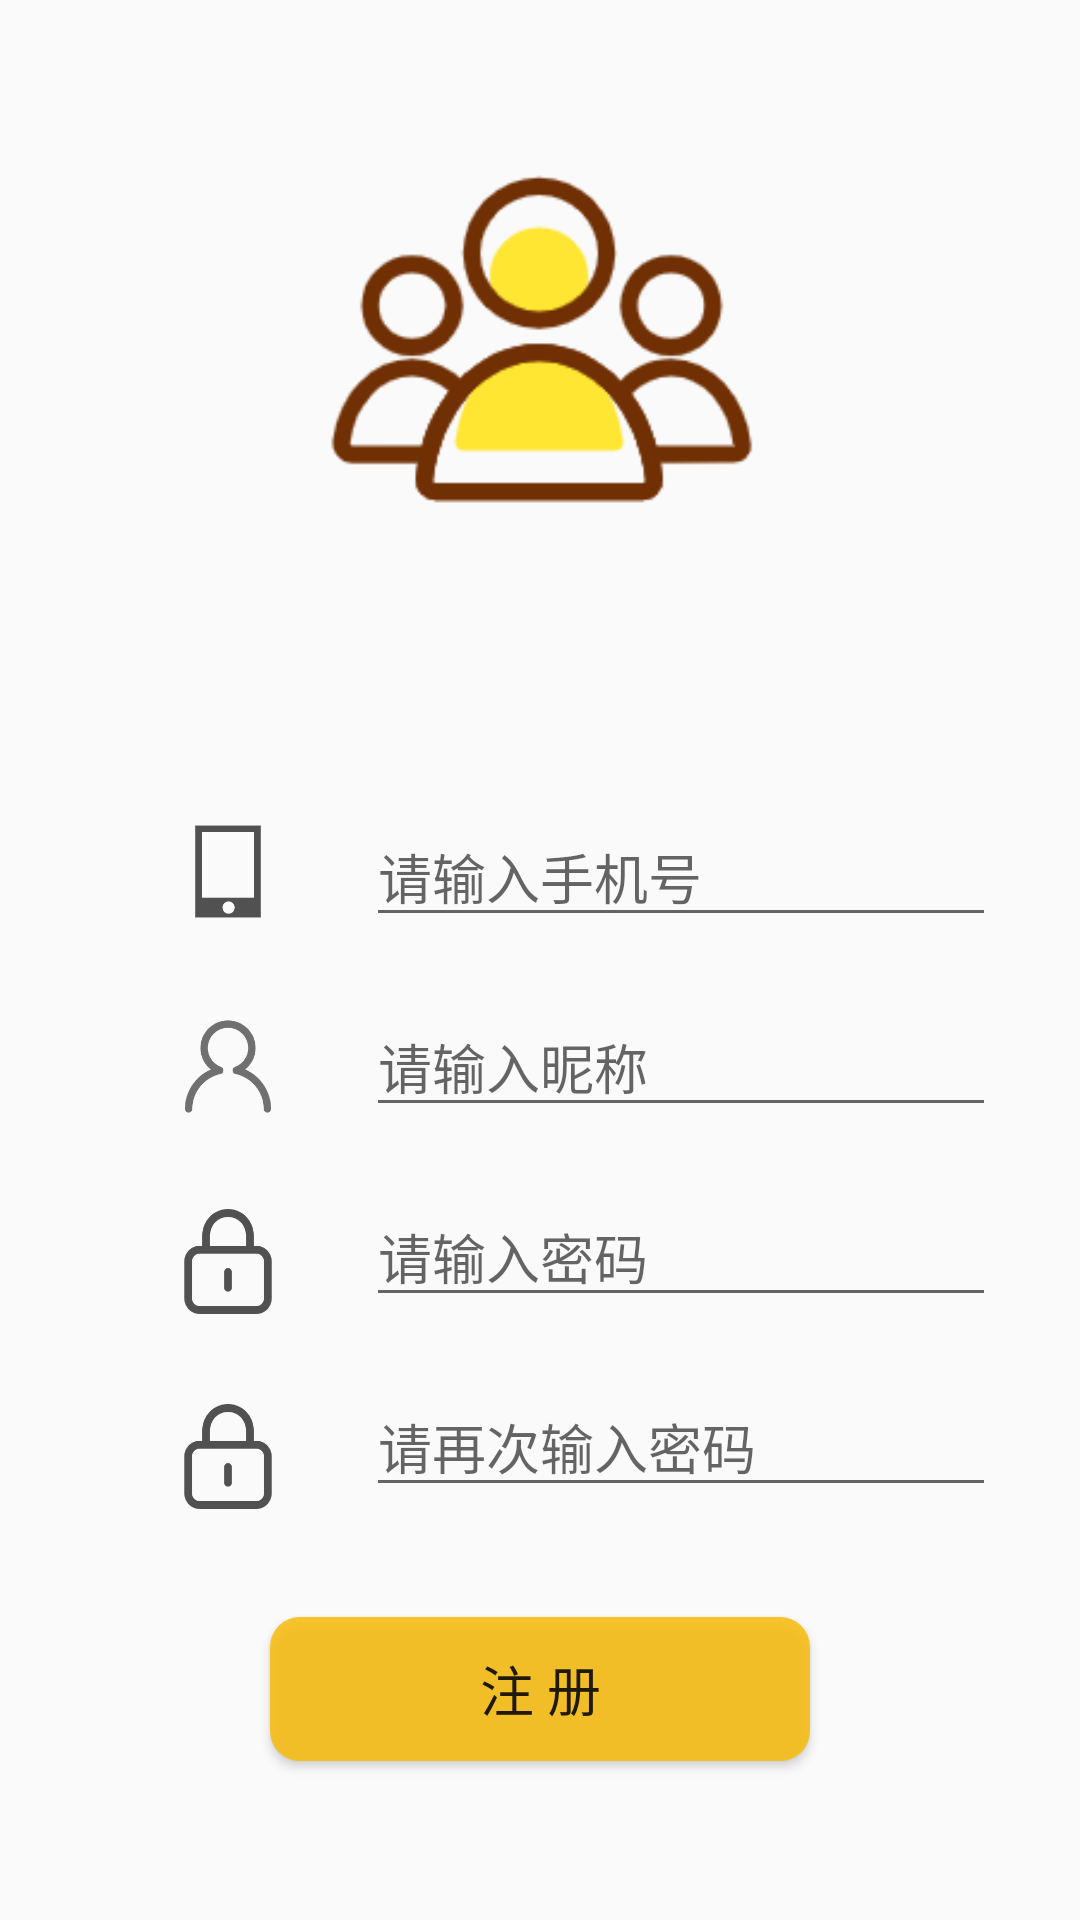

Locate icon controls on the screen. Image size 1080 × 1920, boxes as (x1, y1, x2, y2).
login password: (184, 1209, 272, 1314), (184, 1404, 272, 1509)
login tel: (195, 825, 261, 918)
login user: (185, 1020, 271, 1113)
